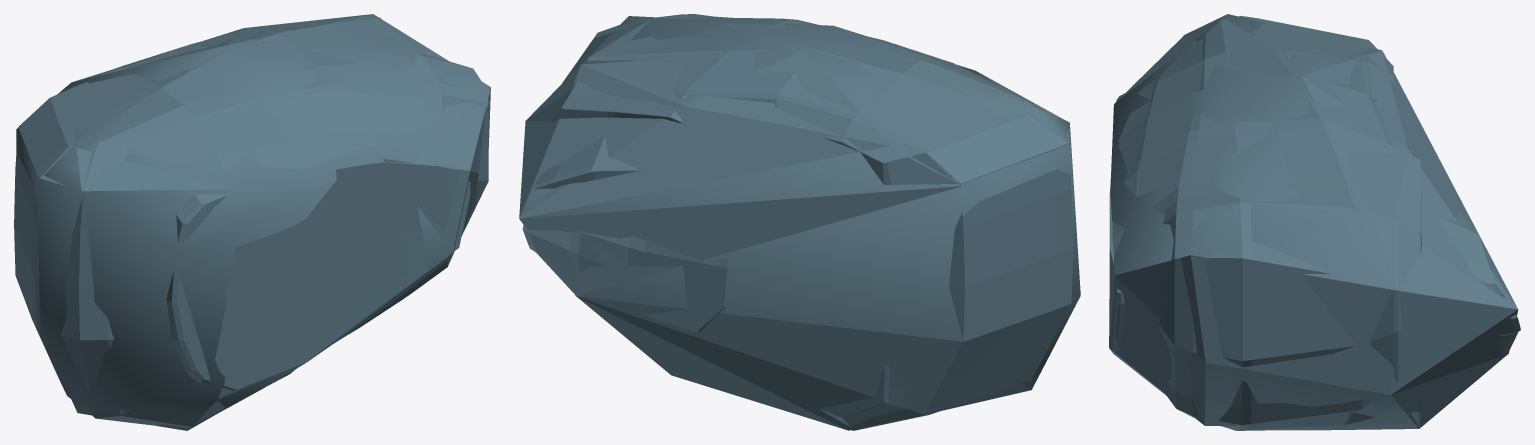
Rendered from rocks_round_A.fbx.
The picture shows the model from 3 angles, left to right: view 1: azimuth 30°, elevation 25°; view 2: azimuth 150°, elevation 25°; view 3: azimuth 270°, elevation 25°; orthographic projection. The views are drawn at different scales.
Parts seen in each view (by area): view 1: ROCKSROUND_A, c_ROCKSROUND_A; view 2: c_ROCKSROUND_A, ROCKSROUND_A; view 3: c_ROCKSROUND_A, ROCKSROUND_A.
Part boxes in pixels (x1=…): ROCKSROUND_A: x1=14, y1=17, x2=488, y2=427; c_ROCKSROUND_A: x1=16, y1=14, x2=490, y2=430; c_ROCKSROUND_A: x1=519, y1=16, x2=1080, y2=430; ROCKSROUND_A: x1=522, y1=14, x2=1073, y2=430; c_ROCKSROUND_A: x1=1109, y1=14, x2=1518, y2=428; ROCKSROUND_A: x1=1109, y1=16, x2=1520, y2=430.
Size of the model in its own units: 101 by 74.02 by 73.21.
